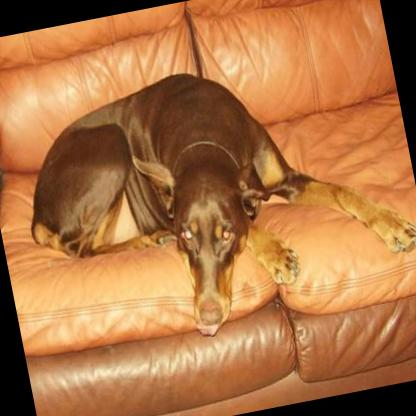Doberman: (6, 33, 416, 365)
